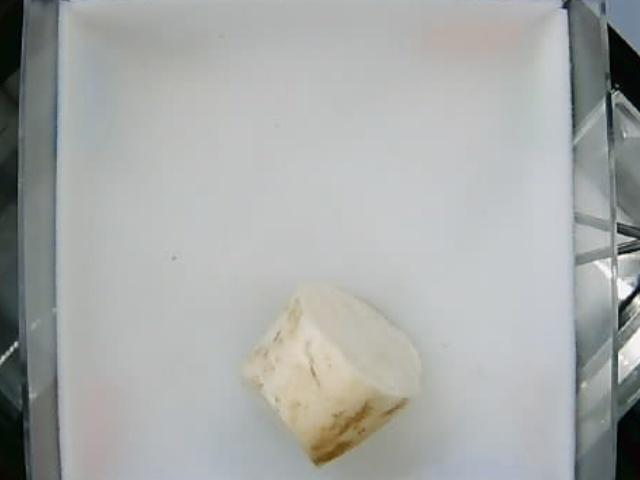Mooli: (234, 278, 421, 467)
